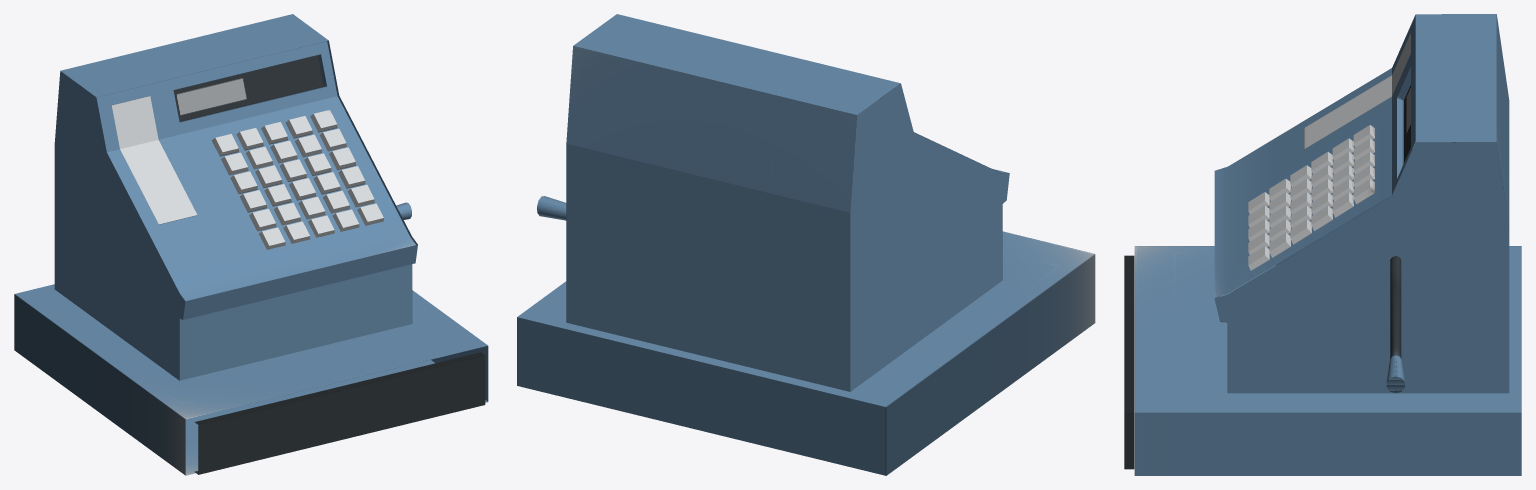
File: Cassa_apparat.FBX
The picture shows the model from 3 angles, left to right: view 1: azimuth 30°, elevation 25°; view 2: azimuth 150°, elevation 25°; view 3: azimuth 270°, elevation 25°; orthographic projection. The views are drawn at different scales.
Parts seen in each view (by area): view 1: Cassa_apparat_003; view 2: Cassa_apparat_003; view 3: Cassa_apparat_003.
Boxes of the visible parts, x1,y1,x2,y2 form: Cassa_apparat_003: (14,14,488,475); Cassa_apparat_003: (517,14,1095,475); Cassa_apparat_003: (1124,14,1521,475).
Size of the model in its own units: 144 by 113 by 130.
1 material, 1 textured.
